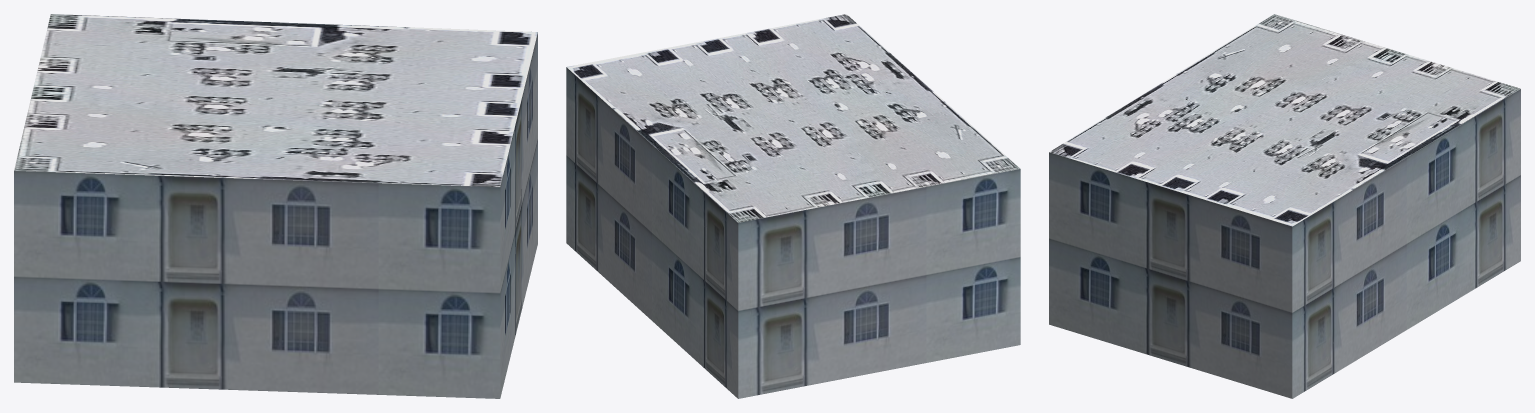
Rendered from ResTex__5234.fbx.
3 renders of one model, left to right at view 1: azimuth 30°, elevation 25°; view 2: azimuth 150°, elevation 25°; view 3: azimuth 270°, elevation 25°, orthographic. The views are drawn at different scales.
Visible parts, largest first — view 1: CityEngineMaterial_17_m, CityEngineMaterial_m; view 2: CityEngineMaterial_17_m, CityEngineMaterial_m; view 3: CityEngineMaterial_17_m, CityEngineMaterial_m.
Part boxes in pixels (left/top/right/bottom): CityEngineMaterial_17_m: left=14, top=33, right=537, bottom=398; CityEngineMaterial_m: left=14, top=14, right=537, bottom=186; CityEngineMaterial_17_m: left=566, top=67, right=1020, bottom=398; CityEngineMaterial_m: left=567, top=14, right=1020, bottom=222; CityEngineMaterial_17_m: left=1049, top=89, right=1520, bottom=398; CityEngineMaterial_m: left=1049, top=14, right=1520, bottom=226.
Size of the model in its own units: 15.86 by 6 by 14.88.
Materials: 2 (2 with a texture image).
